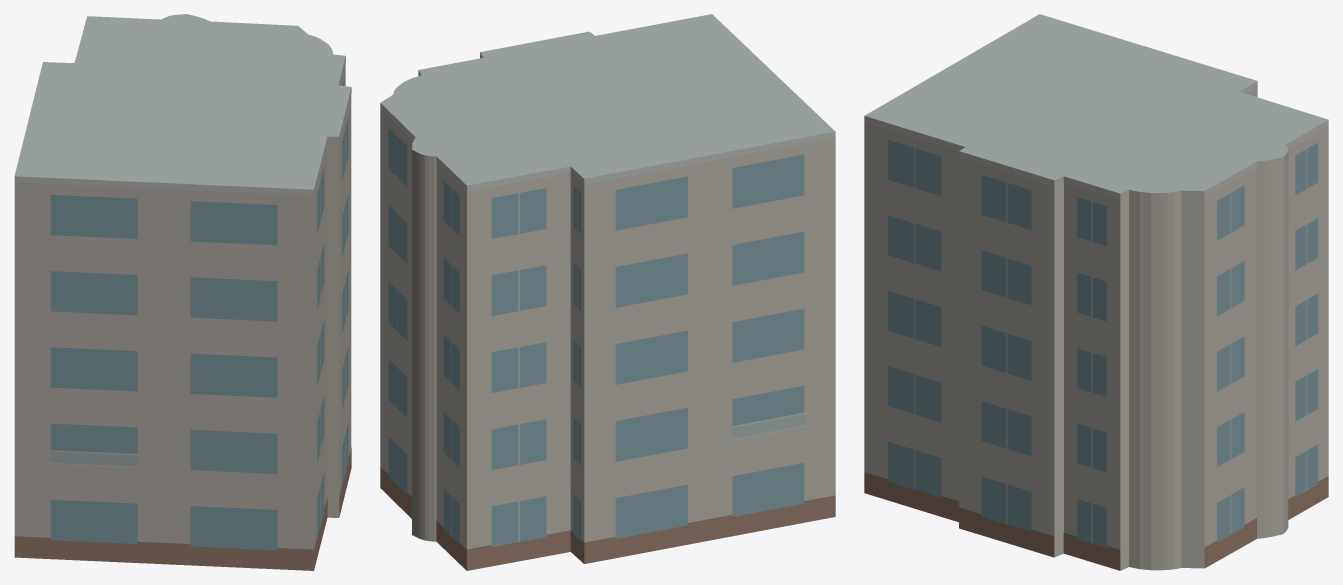
File: survey-upis-33018827.glb
3 renders of one model, left to right at view 1: azimuth 30°, elevation 25°; view 2: azimuth 150°, elevation 25°; view 3: azimuth 270°, elevation 25°, orthographic. The views are drawn at different scales.
Visible parts, largest first — view 1: survey-upis-33018827.tmp; view 2: survey-upis-33018827.tmp; view 3: survey-upis-33018827.tmp.
Boxes of the visible parts, x1=… form: survey-upis-33018827.tmp: x1=14, y1=14, x2=351, y2=570; survey-upis-33018827.tmp: x1=380, y1=14, x2=835, y2=570; survey-upis-33018827.tmp: x1=864, y1=14, x2=1328, y2=570.
Size of the model in its own units: 15.51 by 15.18 by 16.94.
